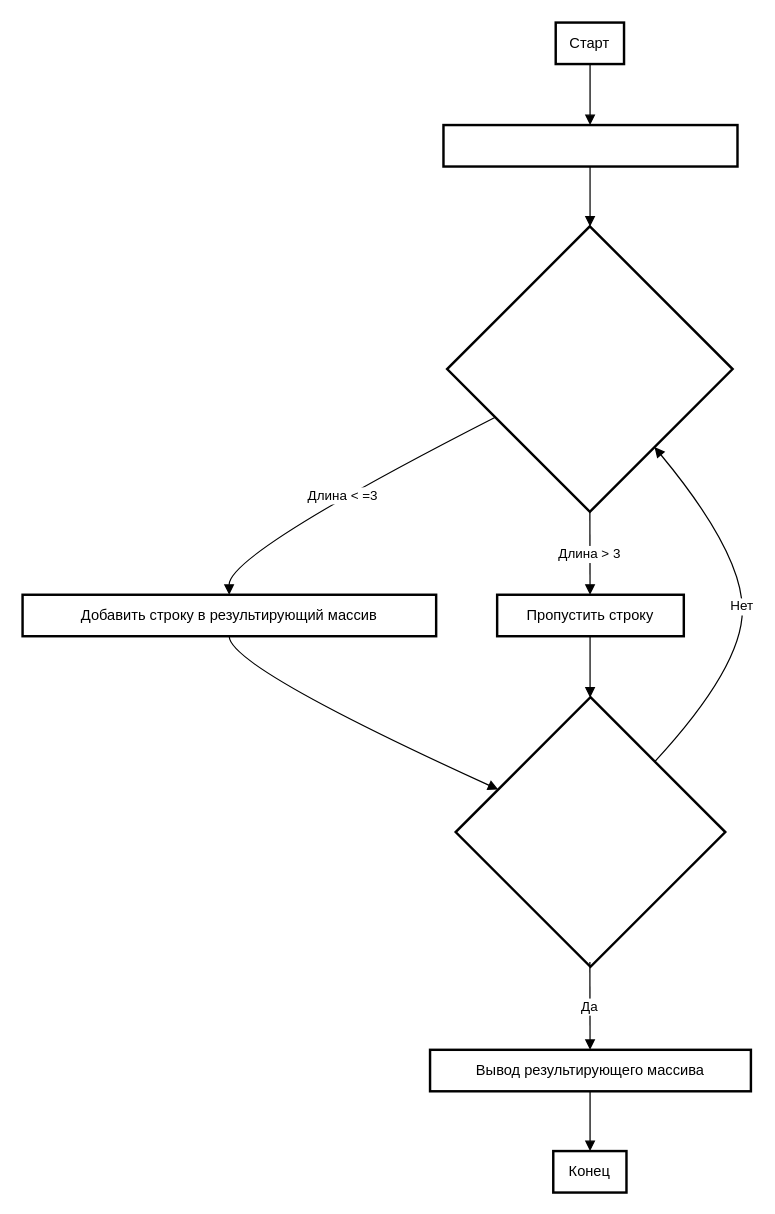
The diagram is 775 pixels wide and 1214 high, and some of its shapes have lost their labels. Each missing label, with the centre of its shape:
"Все строки проверены?" belongs at [590,831].
"Инициализация массива строк" belongs at [590,145].
"Проверка каждой строки" belongs at [589,368].
